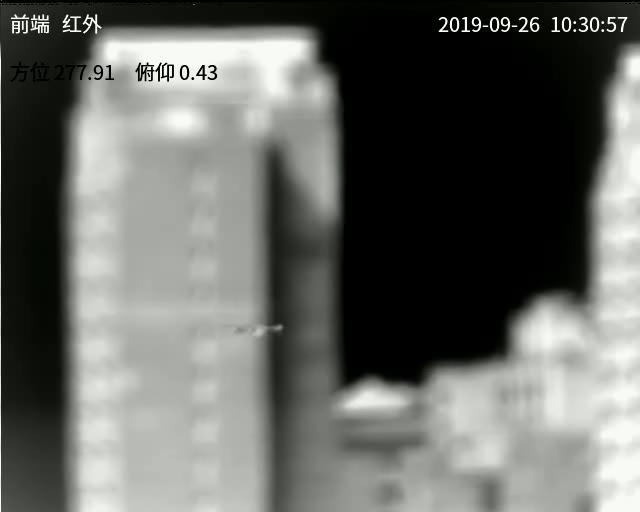uav: (229, 322, 290, 342)
